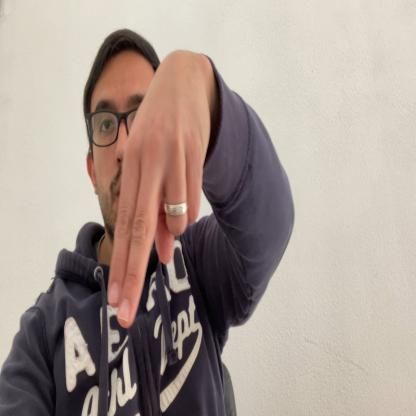N: (106, 53, 213, 329)
